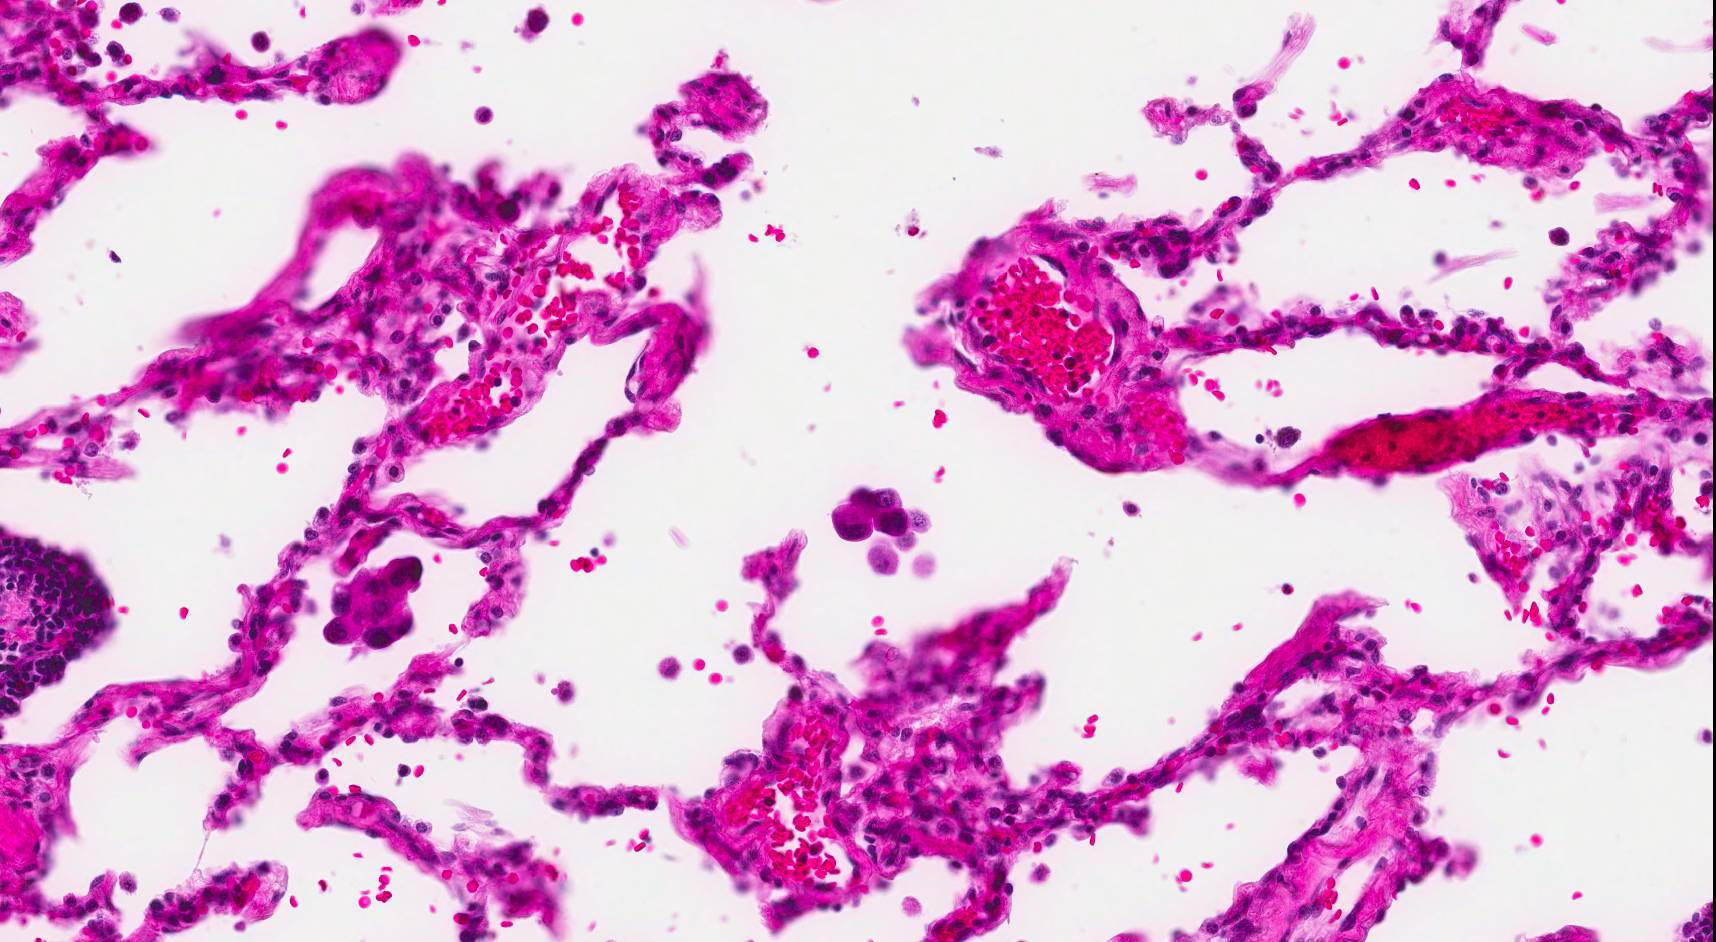stas: (322, 555, 430, 649), (830, 484, 908, 544)
